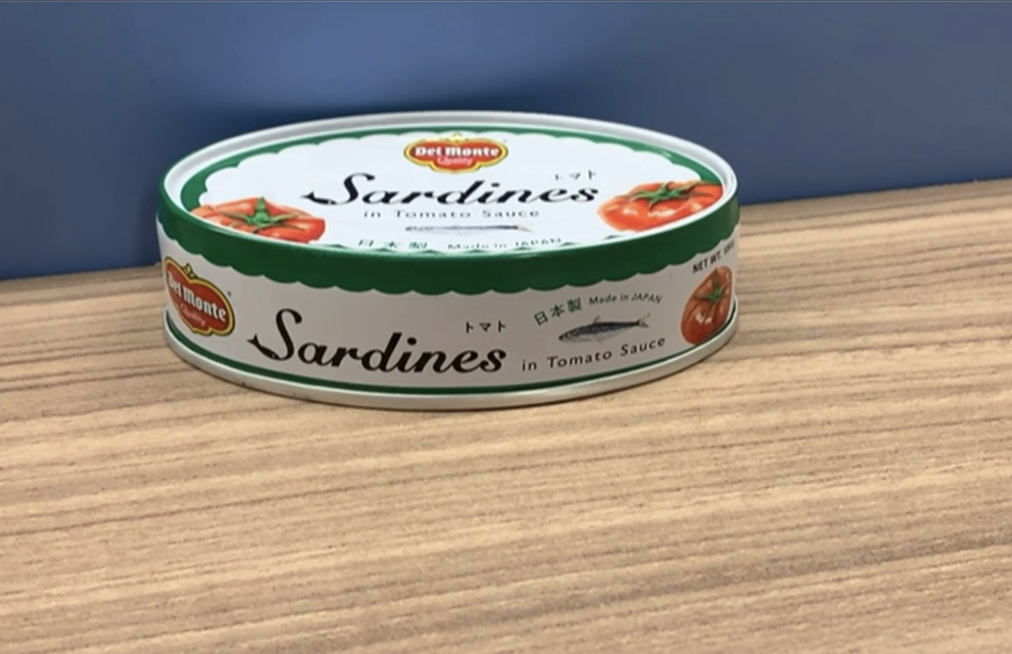sardines_150g: (179, 137, 717, 371)
